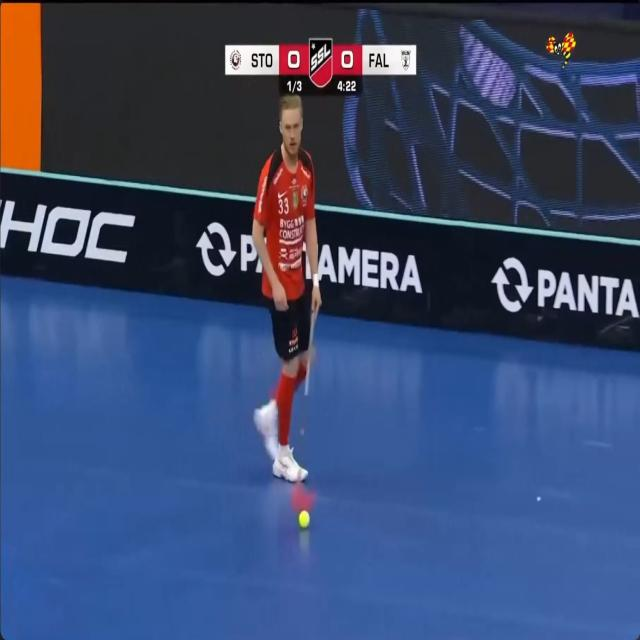Balls: (298, 510, 309, 529)
player: (253, 94, 321, 482)
stick: (304, 312, 317, 395)
